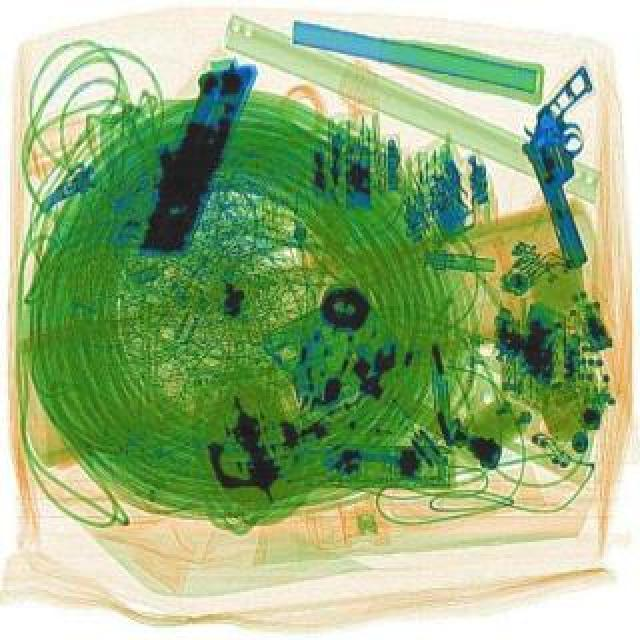gun: (510, 66, 638, 260)
